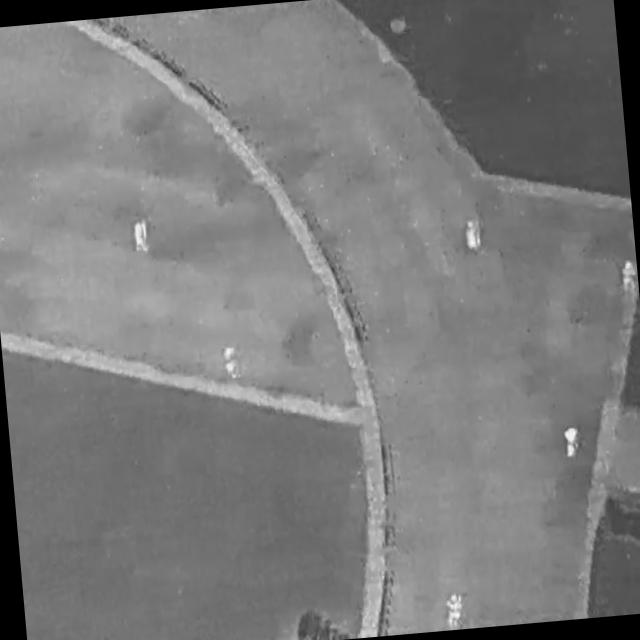person: (445, 590, 466, 630), (221, 343, 241, 384), (562, 423, 583, 459), (619, 258, 639, 292), (464, 217, 483, 251), (132, 220, 149, 252)
